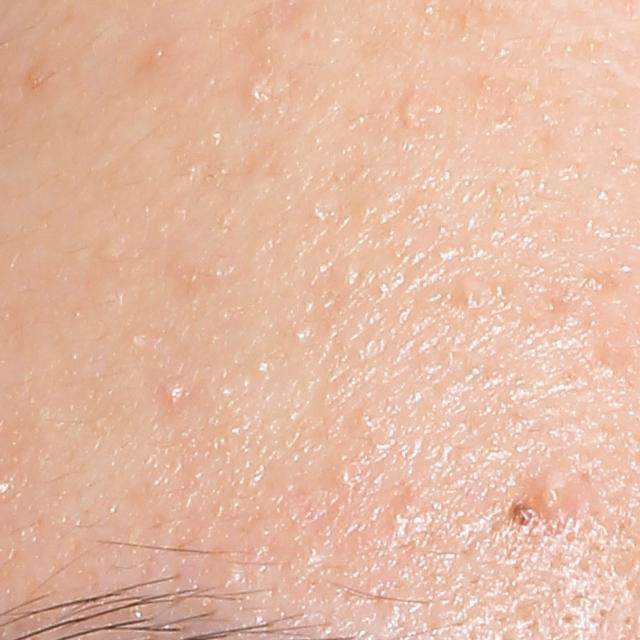comedo: (326, 457, 359, 493), (93, 236, 125, 268), (400, 100, 422, 128), (247, 77, 270, 103), (164, 378, 185, 405)
nevus: (508, 499, 536, 532)
pustule: (532, 464, 582, 526)
